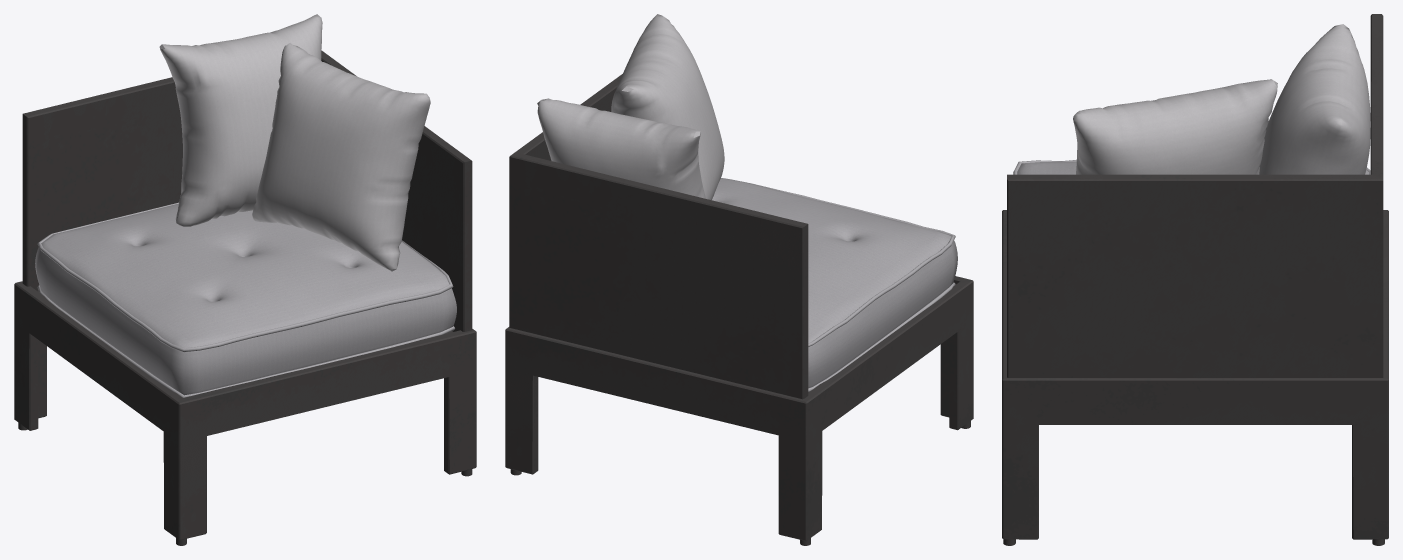
The model's file is single_seater_chair.glb.
The picture shows the model from 3 angles, left to right: view 1: azimuth 30°, elevation 25°; view 2: azimuth 150°, elevation 25°; view 3: azimuth 270°, elevation 25°; orthographic projection. The views are drawn at different scales.
Visible parts, largest first — view 1: Chair; view 2: Chair; view 3: Chair.
Boxes of the visible parts, x1,y1,x2,y2 form: Chair: [14, 14, 476, 545]; Chair: [505, 14, 973, 545]; Chair: [1002, 14, 1388, 545].
Size of the model in its own units: 0.7263 by 0.85 by 0.6981.
2 materials, 2 textured.
